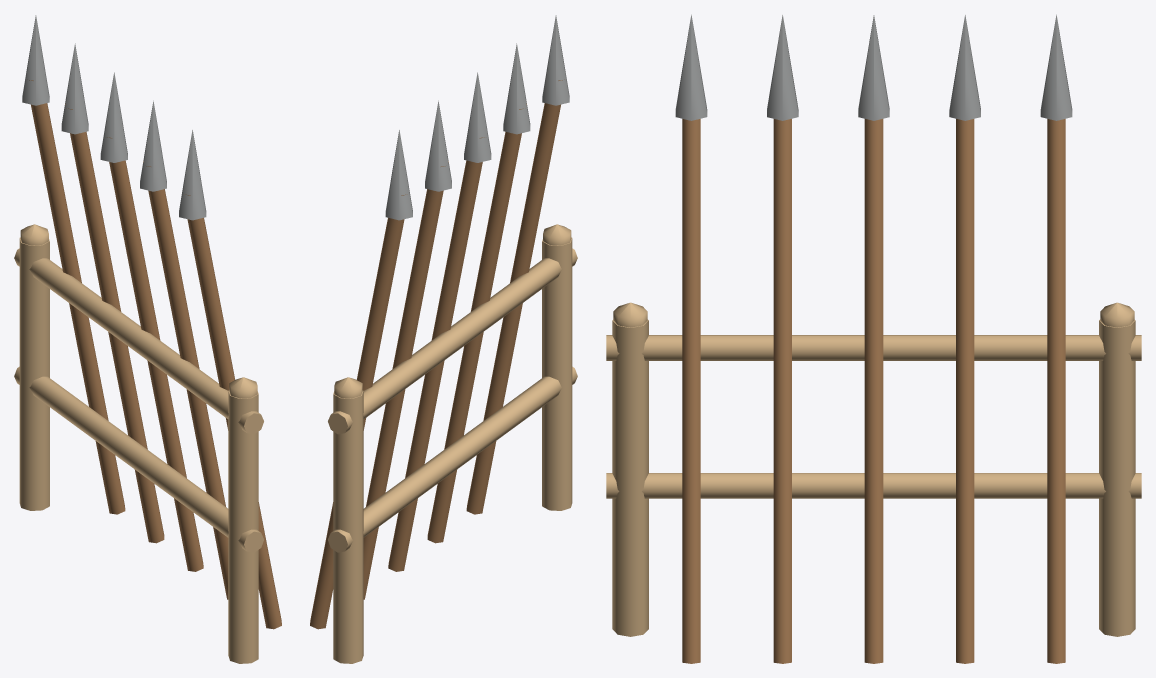
Rendered from spear_rack.fbx.
3 renders of one model, left to right at view 1: azimuth 30°, elevation 25°; view 2: azimuth 150°, elevation 25°; view 3: azimuth 270°, elevation 25°, orthographic. The views are drawn at different scales.
Parts seen in each view (by area): view 1: spear_rack; view 2: spear_rack; view 3: spear_rack.
Boxes of the visible parts, box(x1,y1,x2,y2) form: spear_rack: box(14, 15, 281, 663); spear_rack: box(310, 15, 577, 663); spear_rack: box(606, 14, 1141, 663).
Size of the model in its own units: 0.0454 by 0.2187 by 0.176.
